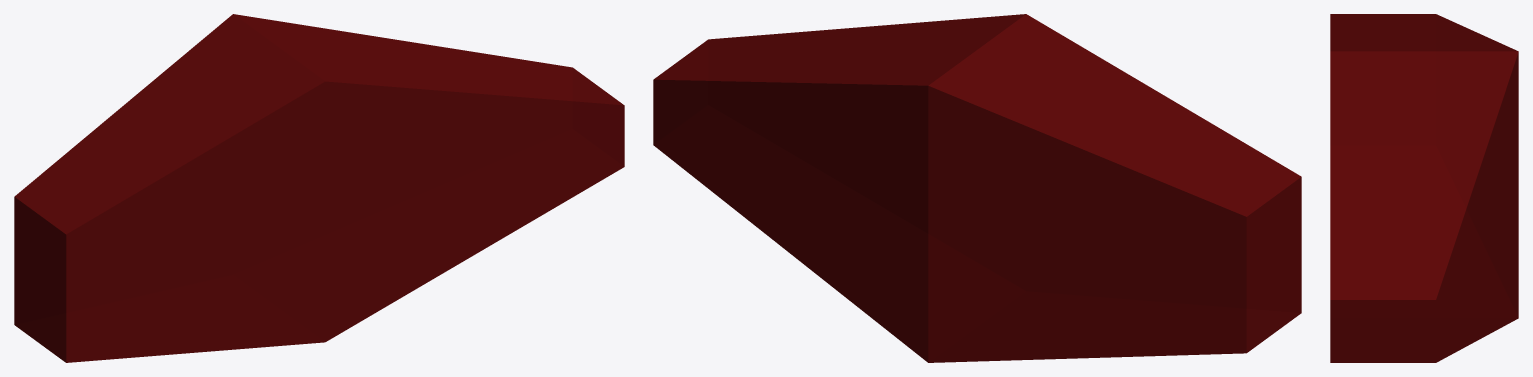
The model's file is BackL.obj.
3 renders of one model, left to right at view 1: azimuth 30°, elevation 25°; view 2: azimuth 150°, elevation 25°; view 3: azimuth 270°, elevation 25°, orthographic. The views are drawn at different scales.
Visible parts, largest first — view 1: BackL; view 2: BackL; view 3: BackL.
Boxes of the visible parts, x1,y1,x2,y2 form: BackL: [14, 14, 624, 362]; BackL: [653, 14, 1301, 362]; BackL: [1330, 14, 1518, 362].
Bounding box in the file's own units: 0.0523 × 0.0233 × 0.0149.
